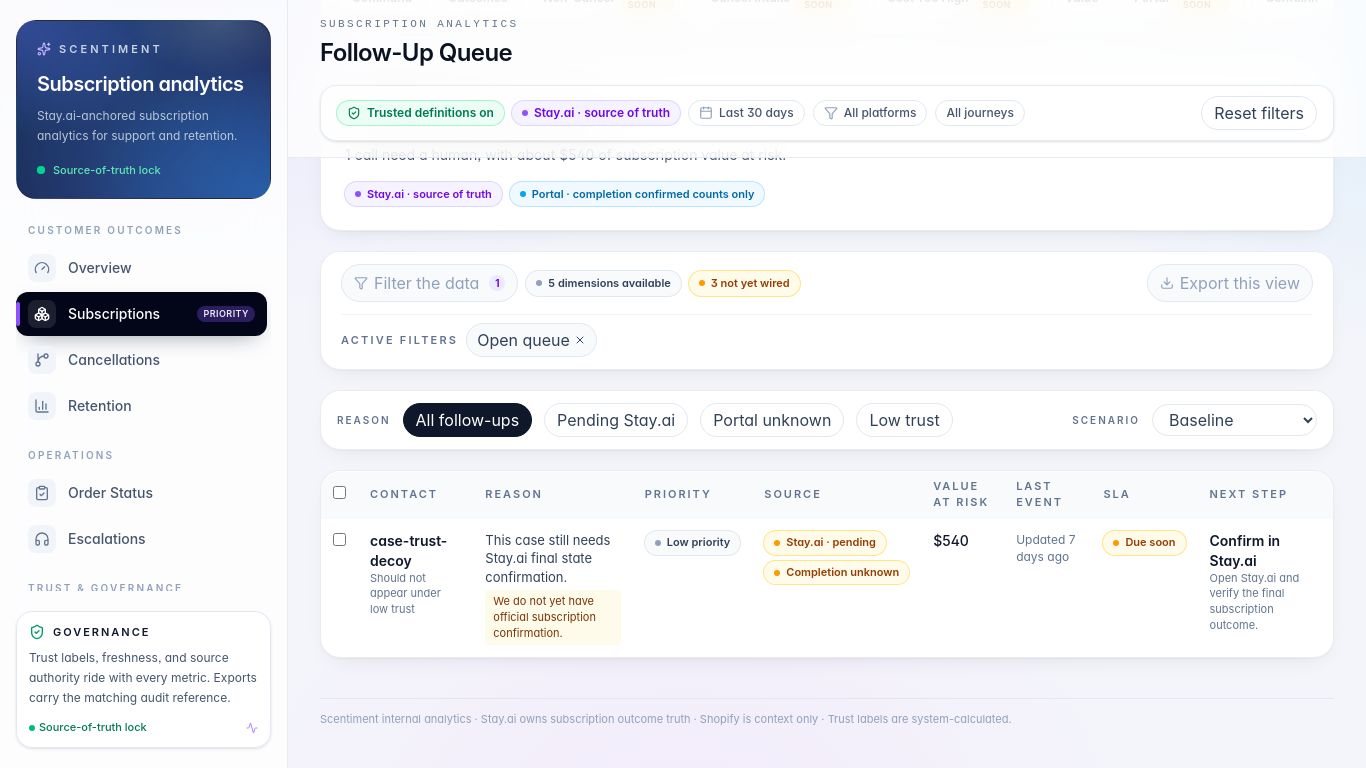
Test: FollowUpPage low_trust filter (regression for Bugbot review #31) › does NOT include a priority=low record whose reason is unrelated to trust
(page scrolled)
What coordinates should you click on to do the following:
click the button with test id "follow-up-reason-low_trust"
I would click on:
 (905, 420)
Its box is [856, 403, 953, 437].
(page scrolled)
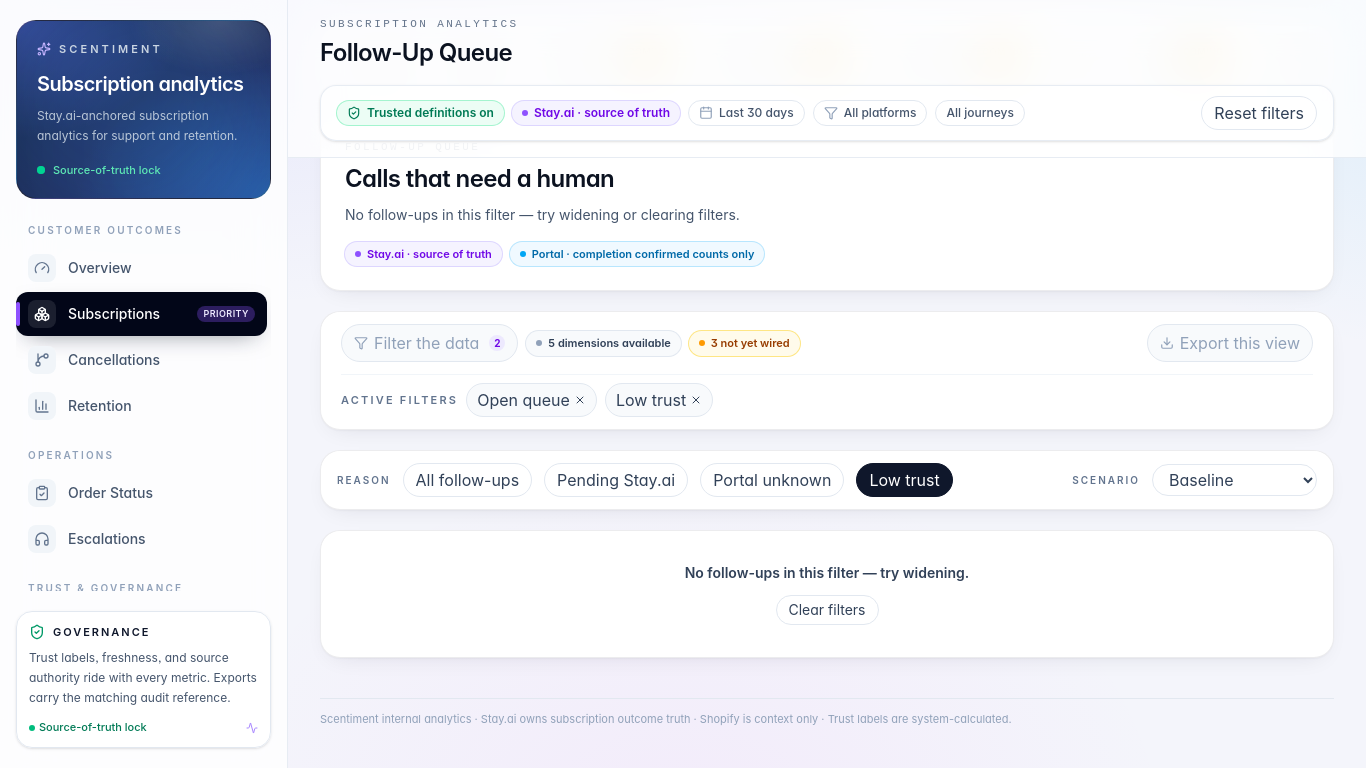
Result: the text "No follow-ups in this filter" is shown at [345, 206, 740, 223]
